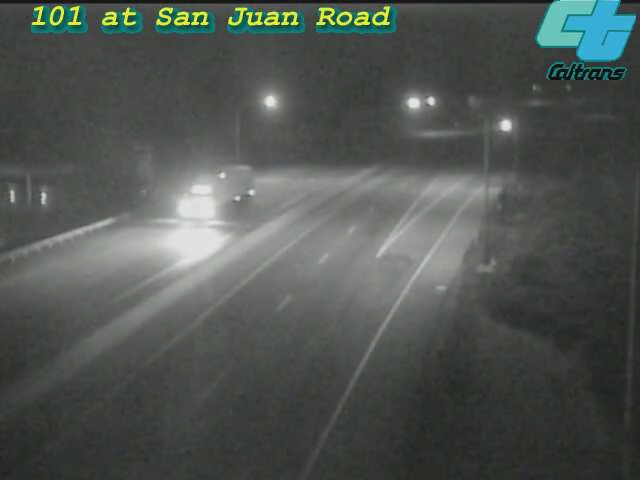vehicle: (175, 153, 255, 233), (479, 100, 529, 150)
